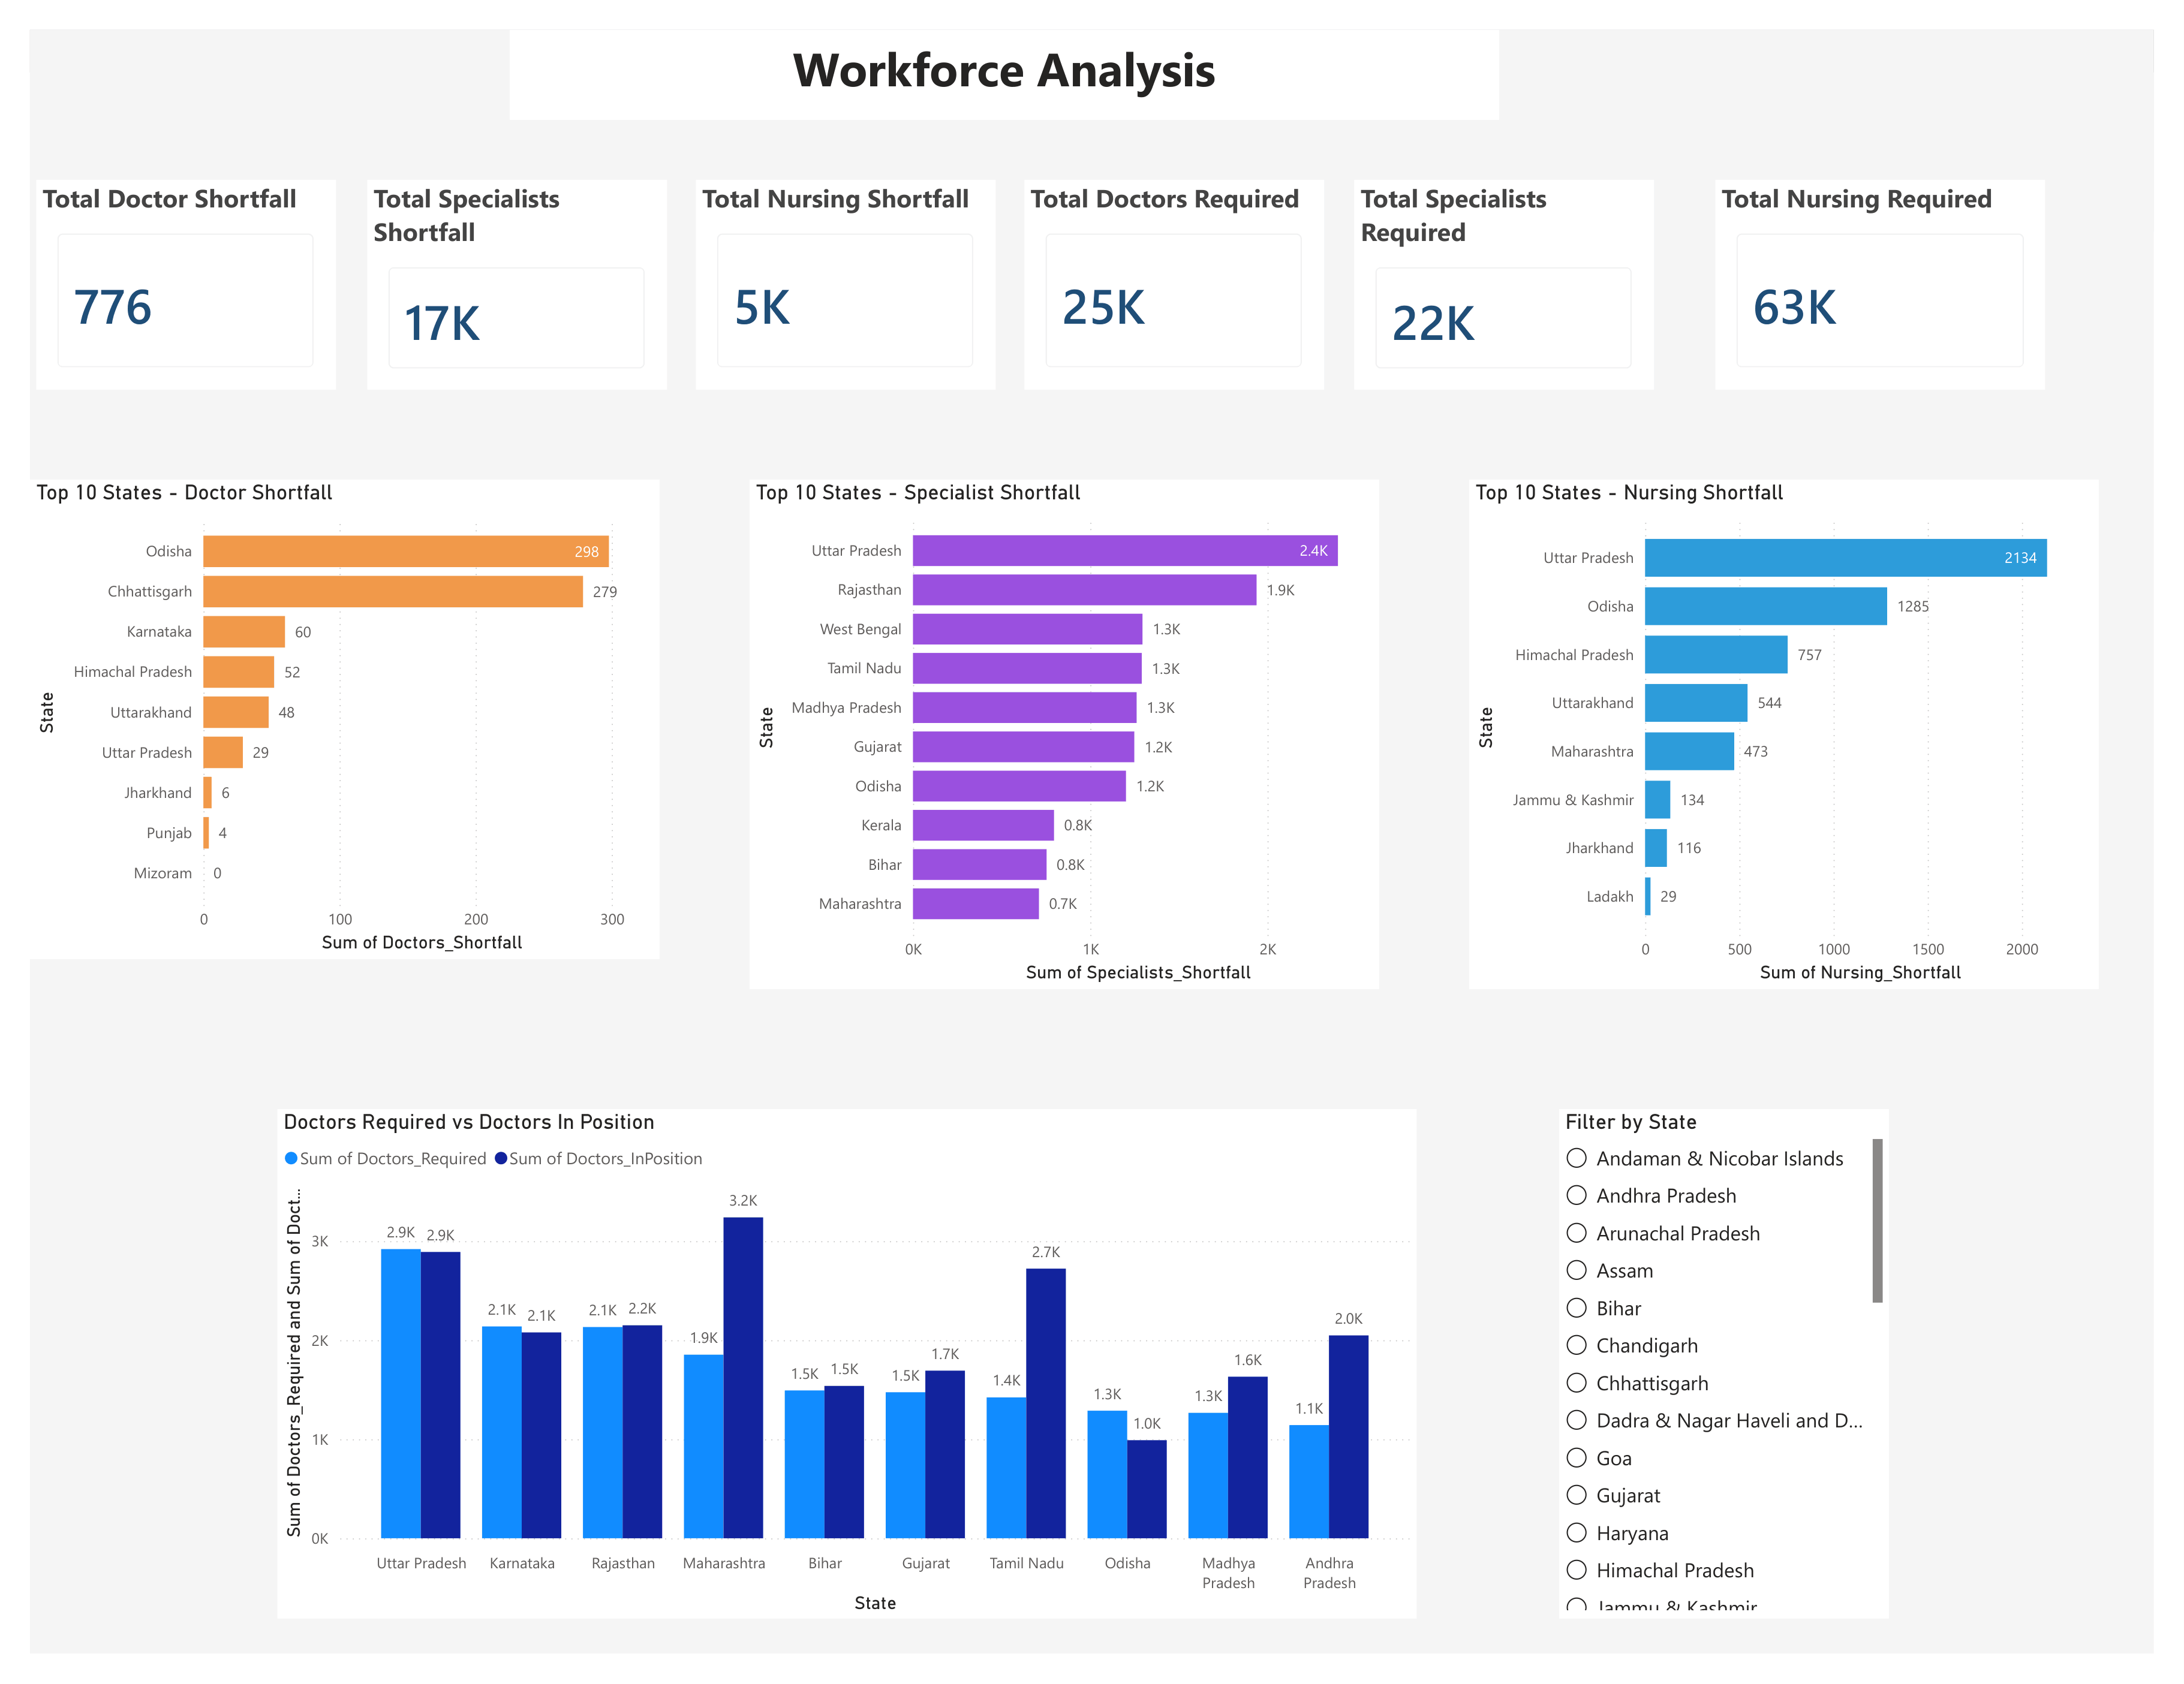

The page's visual inventory and layout, read from the dashboard file:
{"tool":"powerbi","page":{"name":"Page 2","canvas":[1700,1300],"ordinal":1},"visuals":[{"type":"clusteredBarChart","title":"Top 10 States - Doctor Shortfall","fields":{"Category":["Maternal_Health_Master_Dataset.State"],"Y":["Sum(Maternal_Health_Master_Dataset.Doctors_Shortfall)"]},"box":[0,360,504,384],"z":0},{"type":"clusteredBarChart","title":"Top 10 States - Specialist Shortfall","fields":{"Category":["Maternal_Health_Master_Dataset.State"],"Y":["Sum(Maternal_Health_Master_Dataset.Specialists_Shortfall)"]},"box":[576,360,504,408],"z":1000},{"type":"clusteredBarChart","title":"Top 10 States - Nursing Shortfall","fields":{"Category":["Maternal_Health_Master_Dataset.State"],"Y":["Sum(Maternal_Health_Master_Dataset.Nursing_Shortfall)"]},"box":[1152,360,504,408],"z":2000},{"type":"clusteredColumnChart","title":"Doctors Required vs Doctors In Position","fields":{"Category":["Maternal_Health_Master_Dataset.State"],"Y":["Sum(Maternal_Health_Master_Dataset.Doctors_Required)","Sum(Maternal_Health_Master_Dataset.Doctors_InPosition)"]},"box":[198.1,863.8,912,408],"z":3000},{"type":"cardVisual","title":"Total Doctor Shortfall","fields":{"Data":["Sum(Maternal_Health_Master_Dataset.Doctors_Shortfall)"]},"box":[5,120,240,168],"z":4000},{"type":"cardVisual","title":"Total Specialists Shortfall","fields":{"Data":["Sum(Maternal_Health_Master_Dataset.Specialists_Shortfall)"]},"box":[270,120,240,168],"z":5000},{"type":"cardVisual","title":"Total Nursing Shortfall","fields":{"Data":["Sum(Maternal_Health_Master_Dataset.Nursing_Shortfall)"]},"box":[533,120,240,168],"z":6000},{"type":"cardVisual","title":"Total Doctors Required","fields":{"Data":["Sum(Maternal_Health_Master_Dataset.Doctors_Required)"]},"box":[796,120,240,168],"z":7000},{"type":"cardVisual","title":"Total Specialists Required","fields":{"Data":["Sum(Maternal_Health_Master_Dataset.Specialists_Required)"]},"box":[1060,120,240,168],"z":8000},{"type":"cardVisual","title":"Total Nursing Required","fields":{"Data":["Sum(Maternal_Health_Master_Dataset.Nursing_Required)"]},"box":[1349,120,264,168],"z":9000},{"type":"textbox","box":[384,0,792,72],"z":10000},{"type":"listSlicer","title":"Filter by State","fields":{"Values":["Maternal_Health_Master_Dataset.State"]},"box":[1224,864,264,408],"z":11000}]}

Visuals, with their boxes on the page's 1700x1300 design canvas (x1, y1, x2, y2). These are canvas units, not pixel positions in the 2184x1684 screenshot, which may show the page scaled, cropped or inside an application window:
"Top 10 States - Doctor Shortfall" clusteredBarChart: pyautogui.locateOnScreen(0, 360, 504, 744)
"Top 10 States - Specialist Shortfall" clusteredBarChart: pyautogui.locateOnScreen(576, 360, 1080, 768)
"Top 10 States - Nursing Shortfall" clusteredBarChart: pyautogui.locateOnScreen(1152, 360, 1656, 768)
"Doctors Required vs Doctors In Position" clusteredColumnChart: pyautogui.locateOnScreen(198, 864, 1110, 1272)
"Total Doctor Shortfall" cardVisual: pyautogui.locateOnScreen(5, 120, 245, 288)
"Total Specialists Shortfall" cardVisual: pyautogui.locateOnScreen(270, 120, 510, 288)
"Total Nursing Shortfall" cardVisual: pyautogui.locateOnScreen(533, 120, 773, 288)
"Total Doctors Required" cardVisual: pyautogui.locateOnScreen(796, 120, 1036, 288)
"Total Specialists Required" cardVisual: pyautogui.locateOnScreen(1060, 120, 1300, 288)
"Total Nursing Required" cardVisual: pyautogui.locateOnScreen(1349, 120, 1613, 288)
textbox: pyautogui.locateOnScreen(384, 0, 1176, 72)
"Filter by State" listSlicer: pyautogui.locateOnScreen(1224, 864, 1488, 1272)
